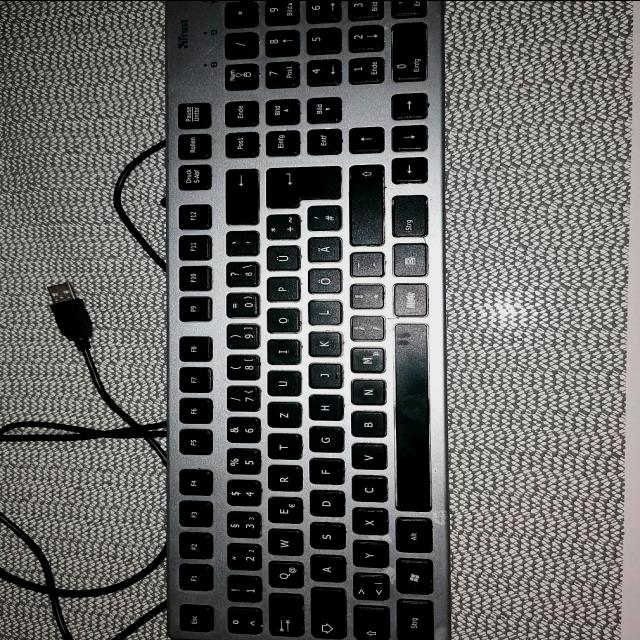0: (223, 294, 257, 320)
1: (223, 576, 259, 604)
2: (223, 545, 259, 572)
3: (223, 512, 259, 540)
4: (222, 481, 258, 507)
5: (222, 449, 258, 476)
6: (223, 417, 258, 444)
7: (223, 386, 259, 412)
8: (223, 356, 258, 382)
9: (223, 324, 258, 350)
a: (306, 556, 343, 584)
accent: (222, 231, 256, 257)
ae: (304, 238, 339, 264)
alt-left: (392, 519, 430, 555)
altgr-right: (391, 284, 426, 319)
b: (348, 411, 384, 439)
c: (348, 477, 385, 504)
caret: (224, 609, 260, 637)
comma: (348, 316, 383, 342)
d: (306, 491, 343, 518)
del: (221, 170, 256, 226)
e: (264, 499, 301, 525)
enter: (263, 167, 339, 211)
f: (306, 459, 342, 485)
g: (305, 428, 341, 454)
h: (305, 396, 341, 422)
hash: (304, 206, 339, 232)
i: (264, 340, 298, 366)
j: (306, 365, 341, 390)
k: (305, 332, 339, 358)
keyboard: (156, 0, 452, 640)
l: (306, 301, 340, 327)
less: (349, 574, 387, 602)
m: (347, 348, 382, 374)
minus: (349, 252, 383, 278)
n: (348, 381, 383, 407)
o: (264, 309, 298, 335)
oe: (305, 269, 339, 295)
p: (264, 277, 298, 303)
plus: (263, 215, 298, 241)
point: (348, 284, 382, 310)
q: (264, 562, 301, 590)
r: (264, 467, 300, 493)
s: (306, 524, 343, 551)
shift-left: (349, 607, 387, 640)
shift-lock: (306, 590, 344, 640)
shift-right: (346, 165, 382, 248)
space: (391, 324, 427, 514)
ss: (223, 262, 257, 288)
strg-left: (393, 600, 431, 640)
strg-right: (390, 195, 426, 239)
t: (264, 435, 299, 461)
tab: (264, 595, 302, 638)
u: (264, 371, 300, 397)
ue: (264, 247, 298, 273)
v: (348, 444, 384, 472)
w: (264, 530, 301, 558)
x: (349, 509, 386, 537)
y: (349, 541, 386, 569)
z: (264, 403, 299, 429)
